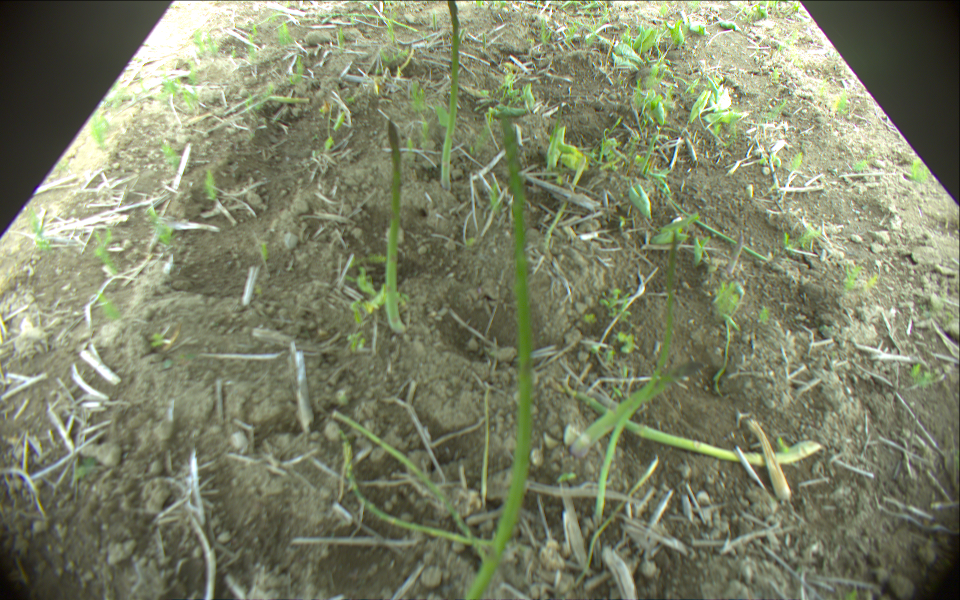aspa: (594, 226, 678, 531), (334, 411, 491, 561), (561, 389, 821, 463), (341, 438, 500, 547), (569, 359, 709, 460), (660, 187, 770, 263), (439, 1, 461, 188), (385, 119, 404, 334), (323, 12, 417, 32), (547, 98, 562, 168), (728, 234, 744, 276)
